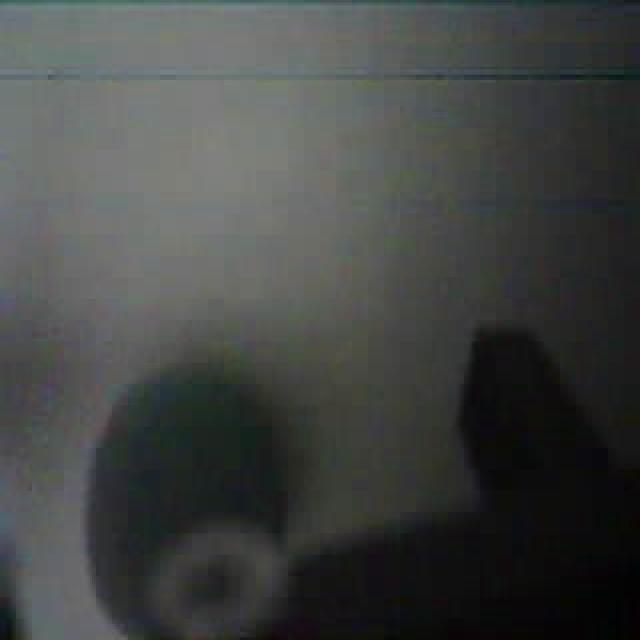green_ball: (84, 352, 304, 637)
